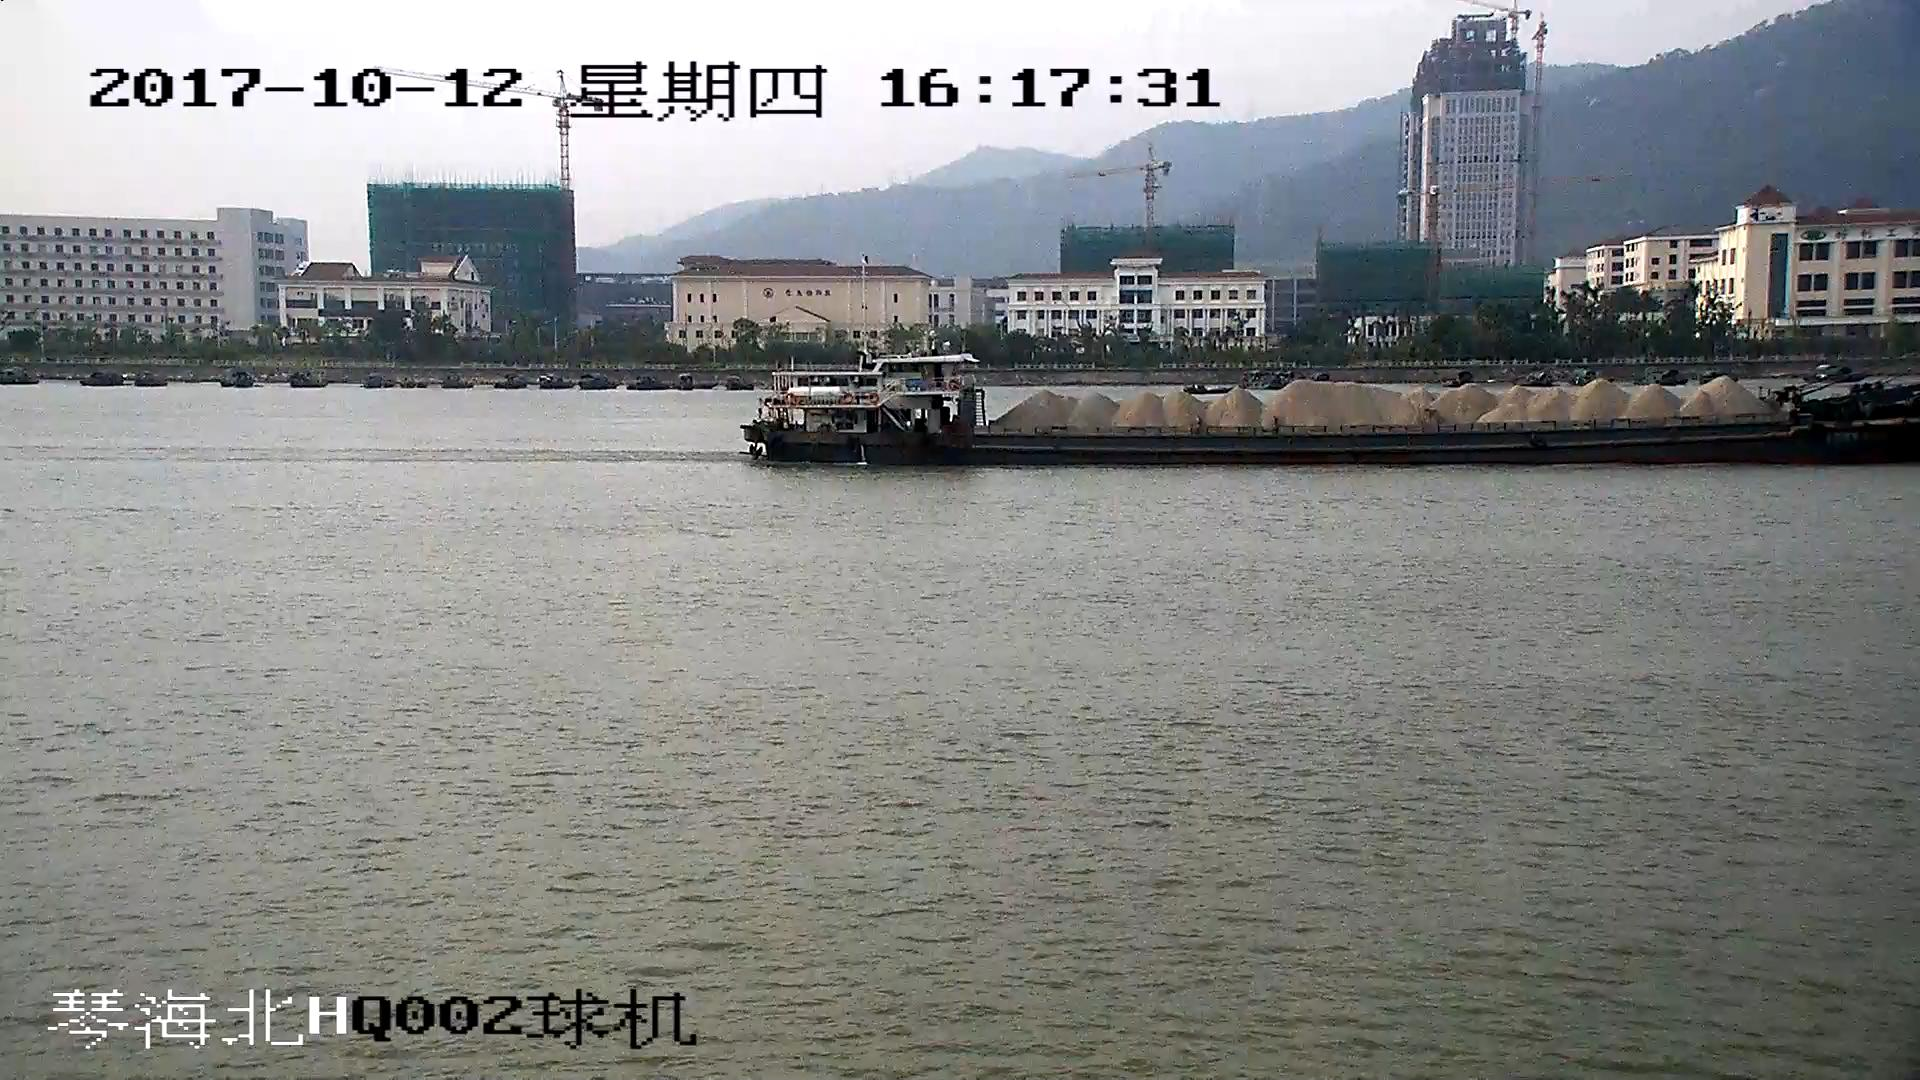ore carrier: (742, 348, 1920, 464)
